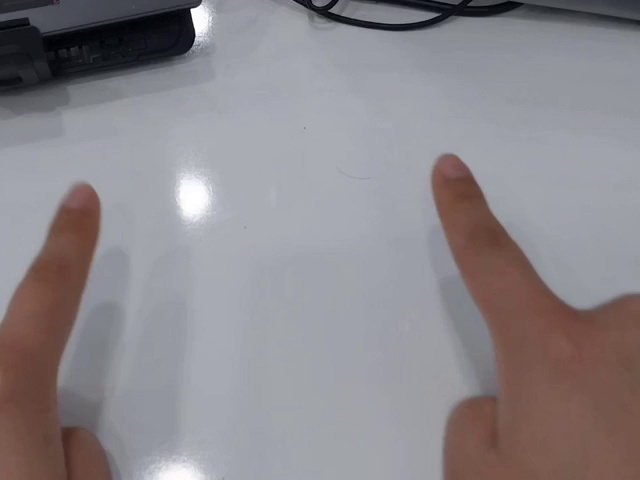fingers: (431, 152, 489, 212), (50, 181, 102, 240)
